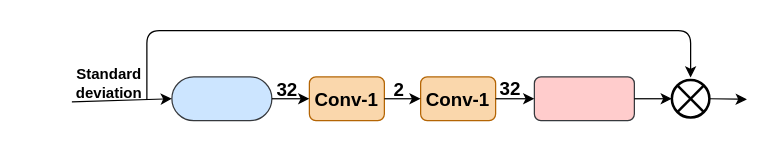
This 779x143 diagram has some shape labels left out. The shapes that lost their labels are listed below. From the top down, each one's centre as x and y in pixels, then its label:
pixel 221 98: contrast
pixel 583 98: sigmoid
